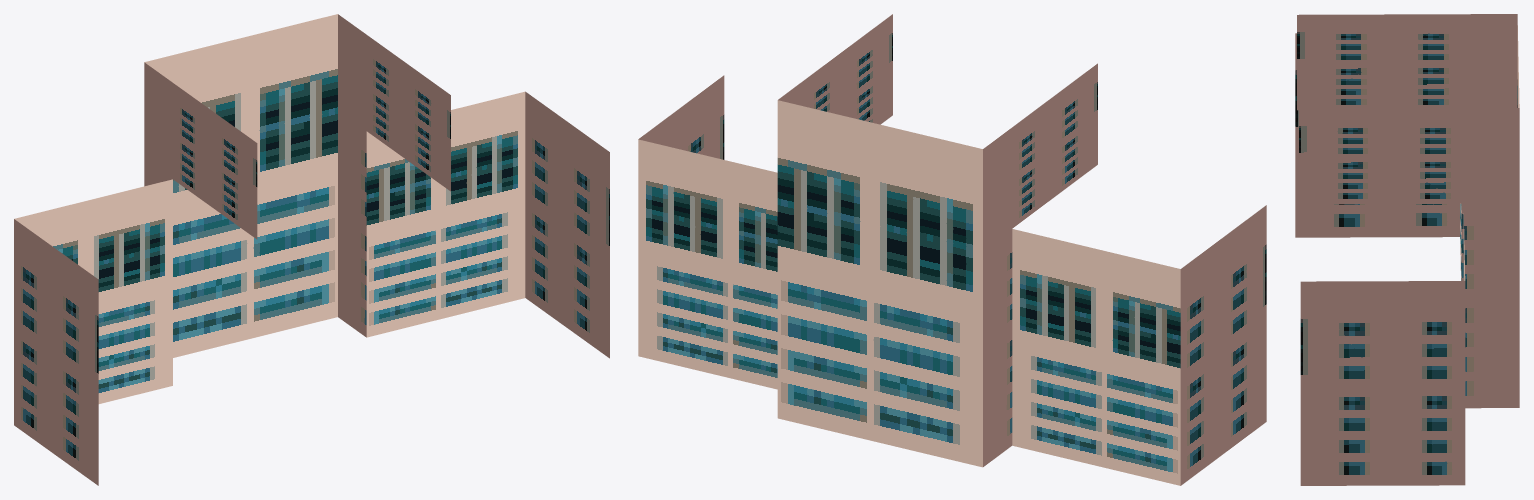
3 renders of one model, left to right at view 1: azimuth 30°, elevation 25°; view 2: azimuth 150°, elevation 25°; view 3: azimuth 270°, elevation 25°, orthographic. The views are drawn at different scales.
Visible parts, largest first — view 1: obj-120; view 2: obj-120; view 3: obj-120.
Part boxes in pixels (x1,y1,x2,y2): obj-120: (14, 14, 609, 485); obj-120: (638, 14, 1266, 485); obj-120: (1295, 14, 1519, 485).
Size of the model in its own units: 4.91 by 2.76 by 1.87.
Materials: 1 (1 with a texture image).
